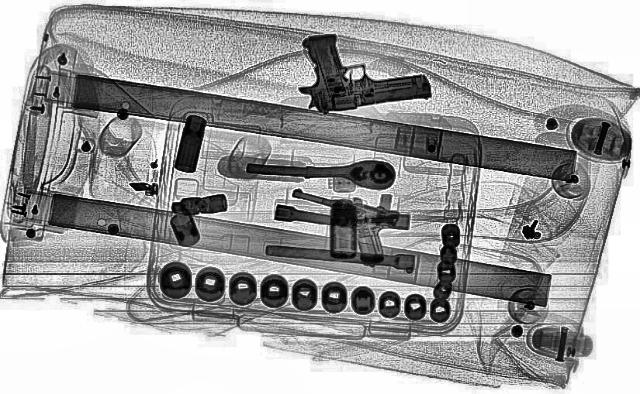Gun: (278, 21, 436, 114), (254, 186, 418, 268)
